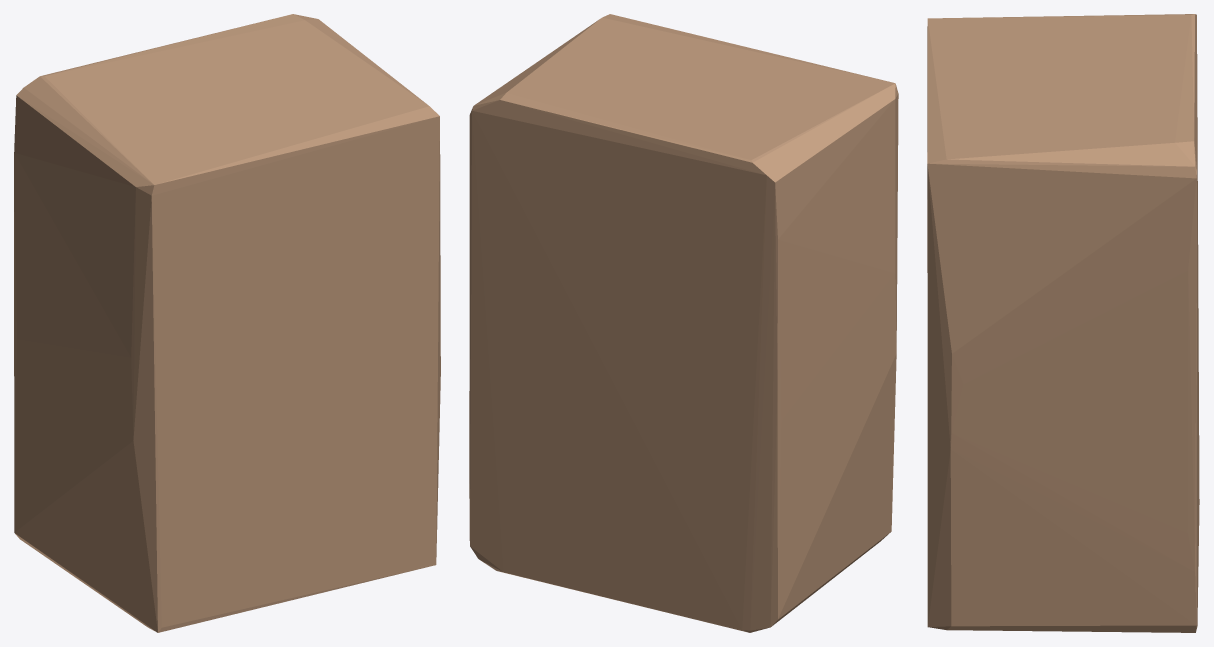
The model's file is storage_box_a01.glb.
3 views of the same model, side by side, from view 1: azimuth 30°, elevation 25°; view 2: azimuth 150°, elevation 25°; view 3: azimuth 270°, elevation 25° (orthographic). The views are drawn at different scales.
Visible parts, largest first — view 1: geometry_0; view 2: geometry_0; view 3: geometry_0.
Boxes of the visible parts, x1=… form: geometry_0: x1=14, y1=14, x2=440, y2=632; geometry_0: x1=469, y1=14, x2=898, y2=632; geometry_0: x1=927, y1=14, x2=1199, y2=632.
Size of the model in its own units: 0.3294 by 0.48 by 0.2416.
